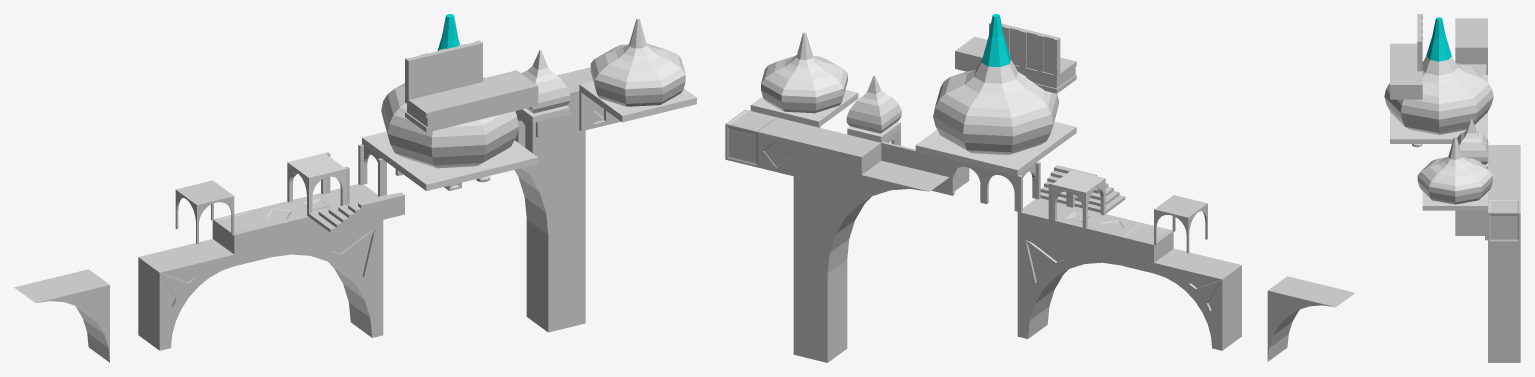
Rendered from Temple Ruins.fbx.
3 views of the same model, side by side, from view 1: azimuth 30°, elevation 25°; view 2: azimuth 150°, elevation 25°; view 3: azimuth 270°, elevation 25° (orthographic). The views are drawn at different scales.
Parts seen in each view (by area): view 1: Tower Extension 2, Roof 3x3, Roof 2x2, Arch 4, Arch 2, Arch 3, Roof 1, Half Cube 4, Arch 1, Arches Small, Edging Corner 1, Fancy Wall 2 (+11 smaller); view 2: Roof 3x3, Tower Extension 2, Roof 2x2, Arch 2, Arch 4, Arch 1, Arch 3, Roof 1, Tower Extension Decor, Tower Extension Decor 2, Tower Extension, Half Cube 4 (+16 smaller); view 3: Roof 3x3, Tower Extension 2, Roof 2x2, Tower Extension Decor 2, Edging Corner 2, Arch 3, Roof 1, Arch 2, Arch Small, Tower Extension Decor, Tower Extension, Arch 1 (+4 smaller).
Boxes of the visible parts, x1,y1,x2,y2 form: Tower Extension 2: (526, 73, 585, 332); Roof 3x3: (362, 14, 538, 191); Roof 2x2: (579, 18, 696, 122); Arch 4: (138, 239, 234, 350); Arch 2: (271, 220, 383, 337); Arch 3: (14, 269, 109, 362); Roof 1: (516, 50, 570, 123); Half Cube 4: (212, 210, 271, 254); Arch 1: (514, 139, 548, 234); Arches Small: (287, 153, 346, 216); Edging Corner 1: (405, 91, 463, 132); Fancy Wall 2: (405, 49, 445, 99); Roof 3x3: (915, 14, 1076, 175); Tower Extension 2: (793, 126, 847, 362); Roof 2x2: (750, 32, 858, 127); Arch 2: (1017, 229, 1119, 338); Arch 4: (1154, 248, 1241, 350); Arch 1: (827, 160, 948, 273); Arch 3: (1267, 276, 1354, 361); Roof 1: (846, 75, 901, 142); Tower Extension Decor: (759, 118, 812, 176); Tower Extension Decor 2: (725, 109, 778, 167); Tower Extension: (827, 134, 881, 174); Half Cube 4: (1120, 222, 1173, 262); Roof 3x3: (1384, 17, 1493, 143); Tower Extension 2: (1488, 171, 1520, 362); Roof 2x2: (1417, 137, 1492, 210); Tower Extension Decor 2: (1488, 199, 1520, 242); Edging Corner 2: (1390, 71, 1422, 99); Arch 3: (1455, 18, 1487, 64); Roof 1: (1457, 118, 1488, 168); Arch 2: (1455, 210, 1484, 235); Arch Small: (1455, 33, 1487, 74); Tower Extension Decor: (1488, 185, 1520, 199); Tower Extension: (1488, 158, 1520, 171); Arch 1: (1488, 145, 1520, 157).
Bounding box in the file's own units: 10400 × 5727 × 2506.
